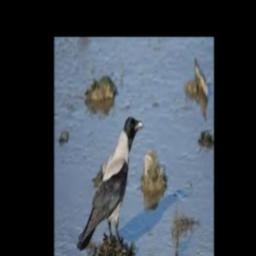Crow: (77, 116, 145, 252)
